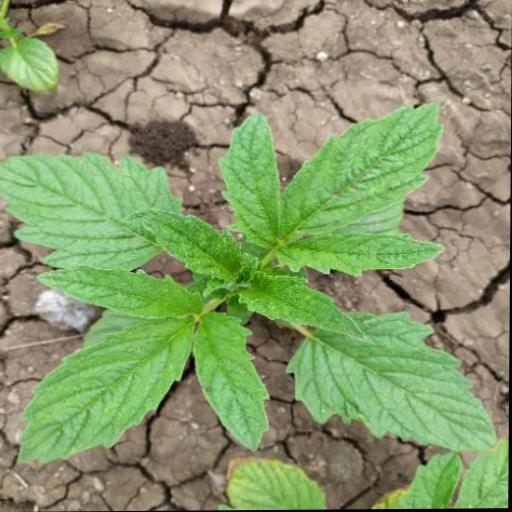crop: (9, 95, 464, 480)
